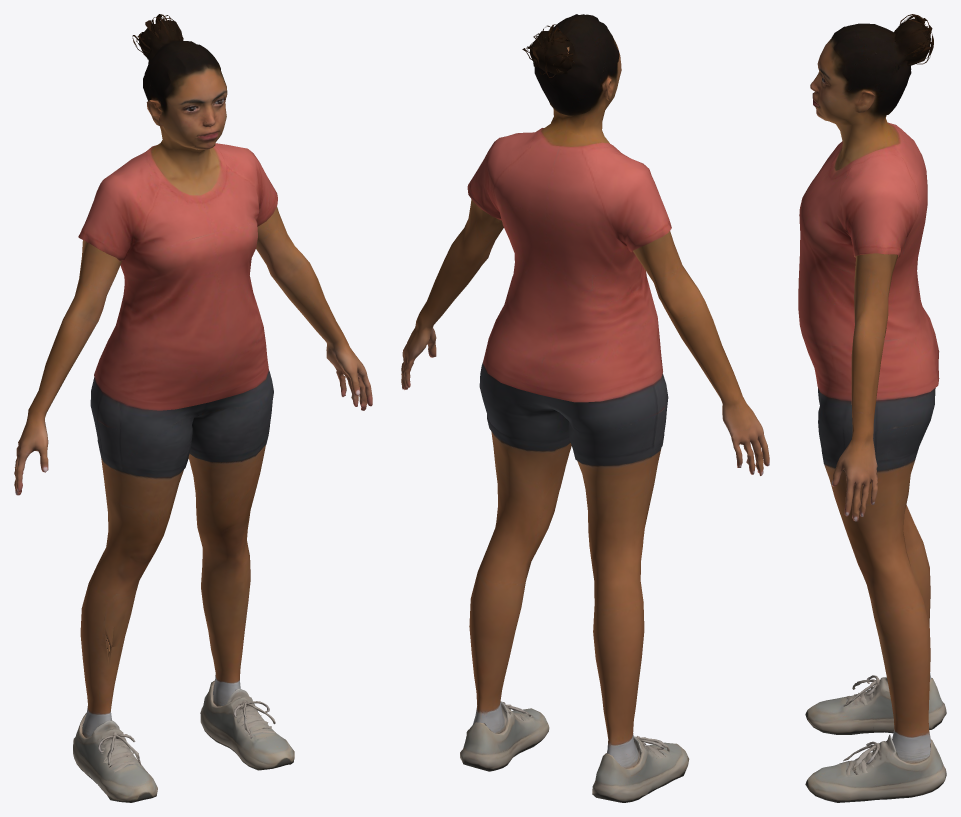
File: corredora-67864bce974e.glb
3 renders of one model, left to right at view 1: azimuth 30°, elevation 25°; view 2: azimuth 150°, elevation 25°; view 3: azimuth 270°, elevation 25°, orthographic. The views are drawn at different scales.
Visible parts, largest first — view 1: geometry_0; view 2: geometry_0; view 3: geometry_0.
Boxes of the visible parts, bbox=[...] form: geometry_0: bbox=[14, 14, 372, 802]; geometry_0: bbox=[401, 14, 769, 802]; geometry_0: bbox=[798, 14, 946, 802].
Bounding box in the file's own units: 0.478 × 0.9502 × 0.1714.
Materials: 1 (1 with a texture image).
